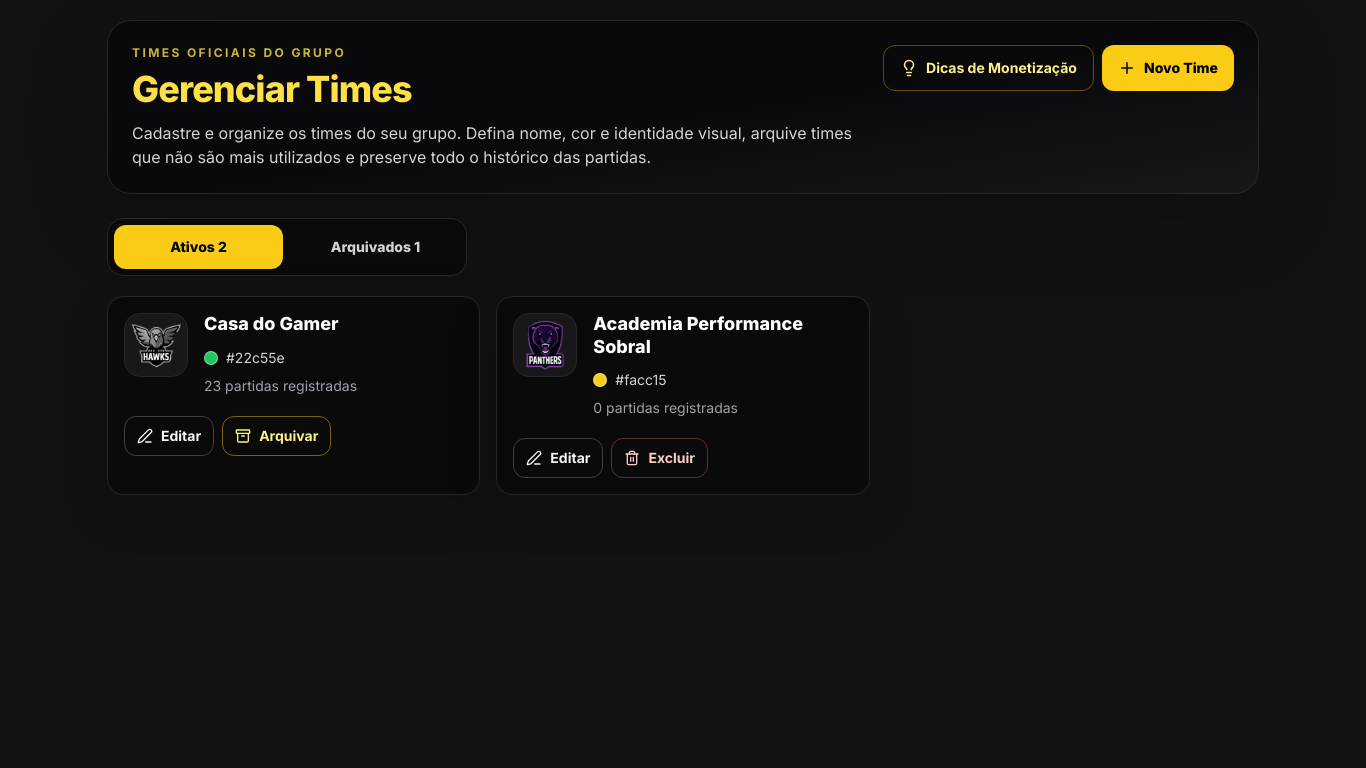
Test: GerenciarTimesPage › usa dialog destrutivo somente para time sem histórico e trata erro de domínio
What coordinates should you click on to do the following:
click the button with aria-label "Excluir Academia Performance Sobral"
I would click on:
 (660, 458)
Its box is [612,438,708,478].
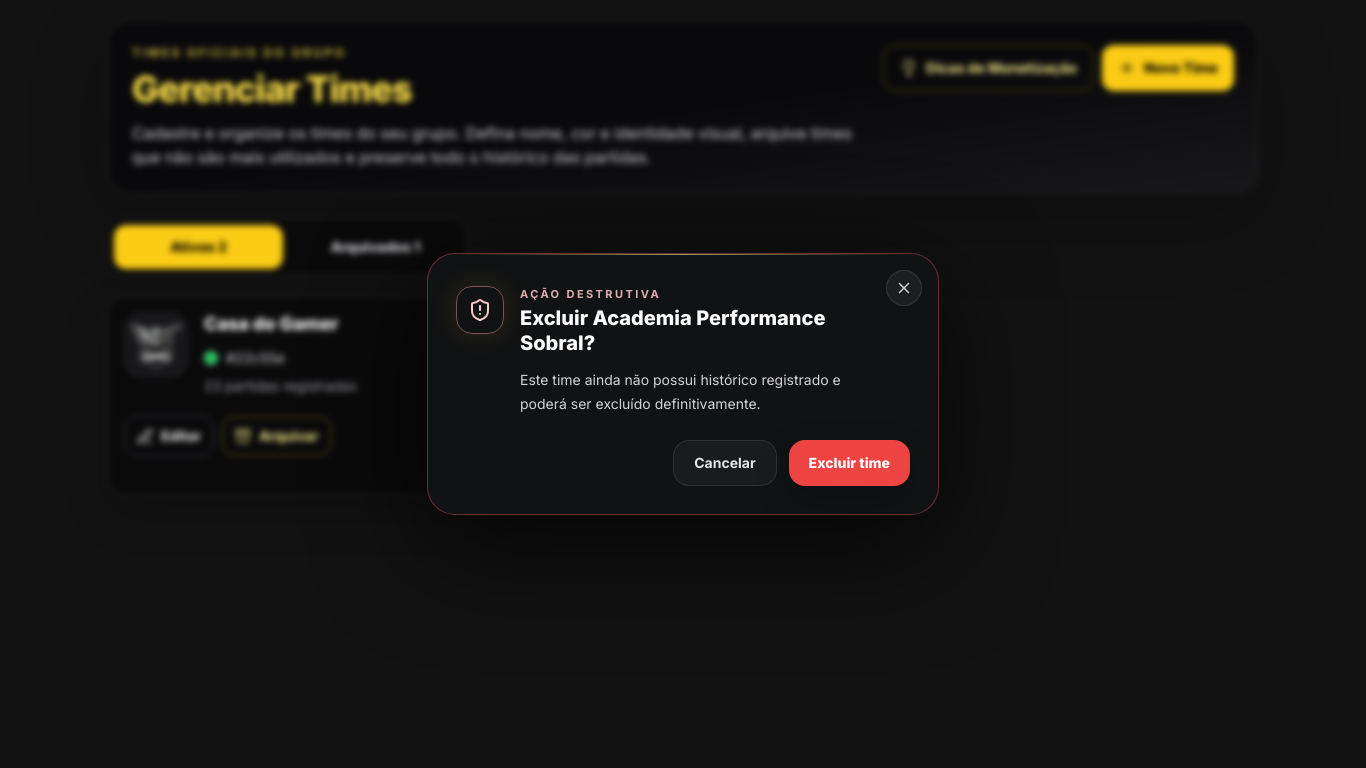
Expected: the heading "Excluir Academia Performance Sobral?" is shown, [520,306,870,356]
Expected: the text "Este time ainda não possui histórico registrado e poderá ser excluído definitivamente." is shown, [520,371,841,412]
What coordinates should you click on to do the following:
click the button "Excluir time"
I would click on:
 (849, 463)
Its box is [789,440,910,486].
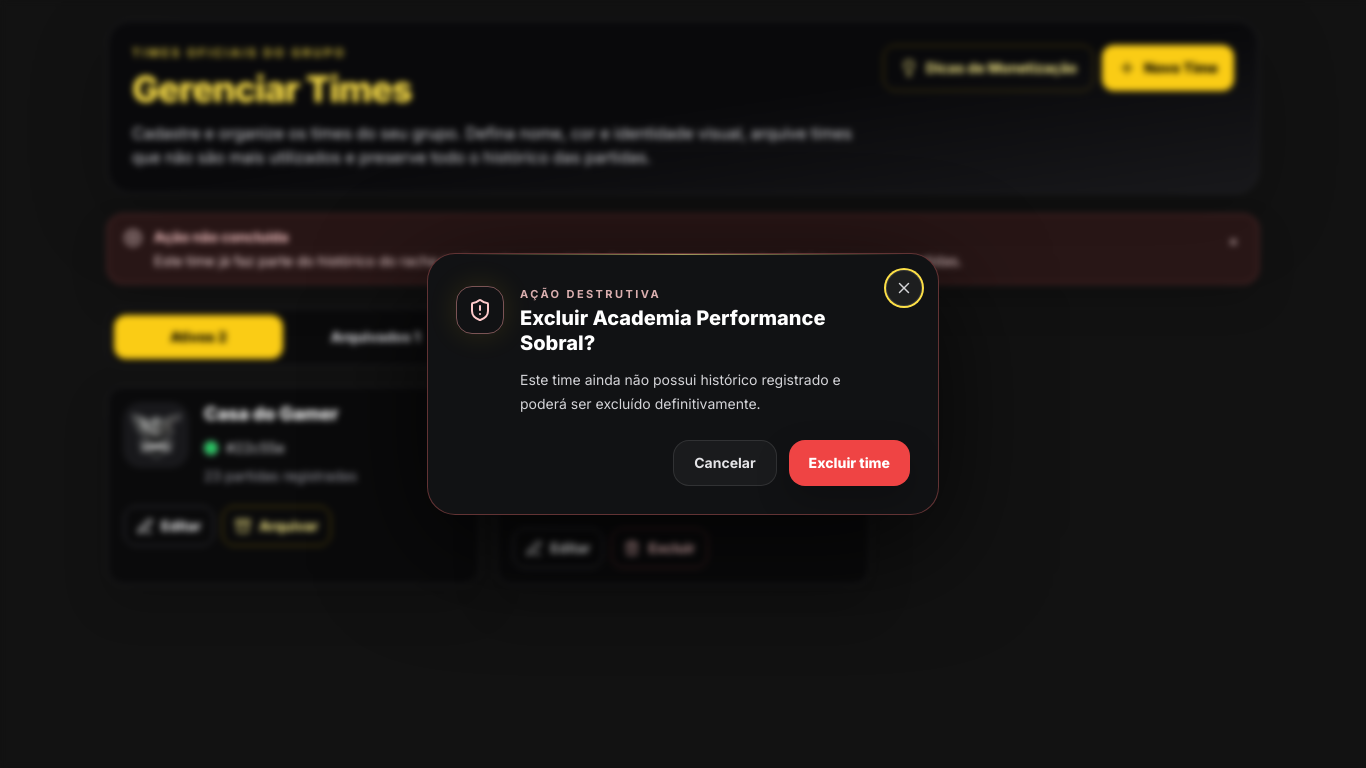
Expected: the text "Este time já faz parte do histórico do racha e não pode ser excluído. Arquive-o para deixar de utilizá-lo em novas parti" is shown, [154,252,962,269]
